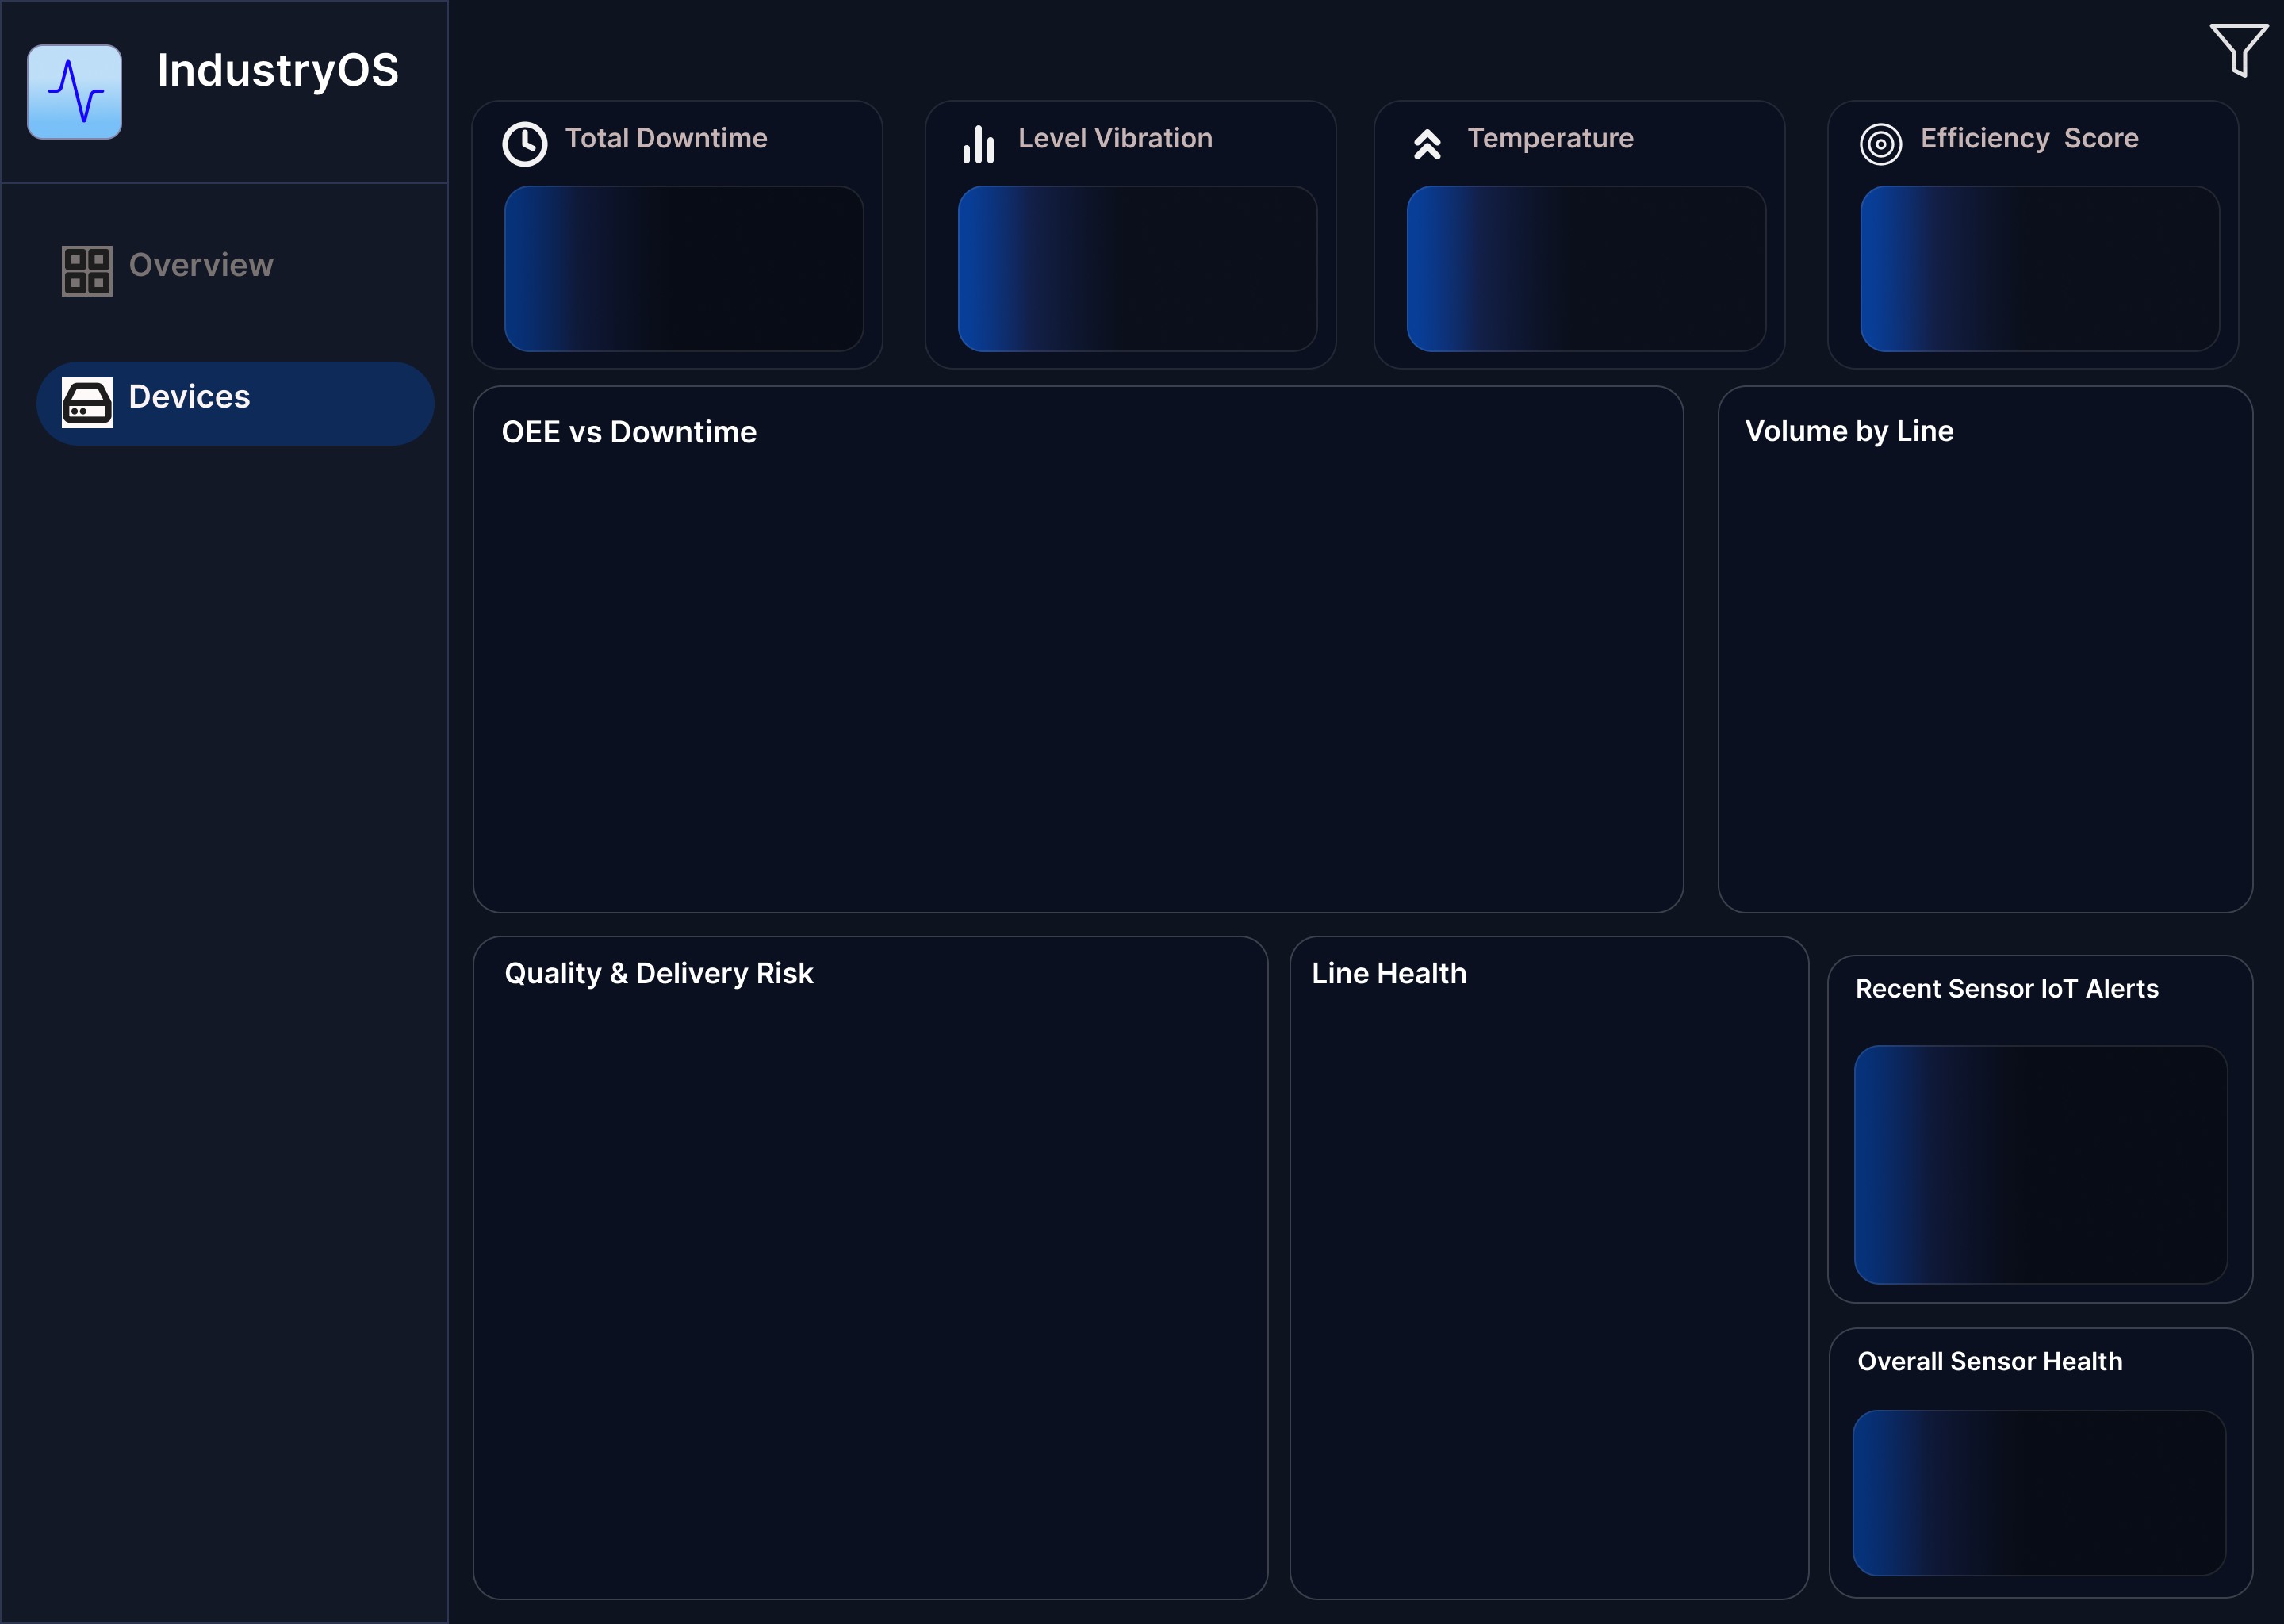

This screenshot's page, from the dashboard's own definition file:
{"tool":"powerbi","page":{"name":"Devices Overview","canvas":[1920,1080],"ordinal":2},"visuals":[{"type":"cardVisual","fields":{"Data":["MIARY.Avg_Vibration"]},"box":[810,127.5,297.5,102.5],"z":0},{"type":"cardVisual","fields":{"Data":["MIARY.Avg_OEE"]},"box":[1570,132.5,242.5,92.5],"z":1000},{"type":"cardVisual","fields":{"Data":["MIARY.Avg_Sensor_Health"]},"box":[1570,927.5,282.5,105],"z":2000},{"type":"areaChart","fields":{"Category":["Dim_Production_Lines.production_line"],"Y":["MIARY.Avg_OEE"],"Y2":["MIARY.Total_Downtime_Hours"]},"box":[358,256,1090,352],"z":3000},{"type":"clusteredBarChart","fields":{"Category":["Dim_Production_Lines.production_line"],"Y":["MIARY.Avg_RUL"]},"box":[1088,660,434,392],"z":4000},{"type":"scatterChart","fields":{"Series":["Dim_Production_Lines.production_line"],"Size":["Sum(Fact_IndustryRisk.machine_downtime_min)"],"X":["Sum(Fact_IndustryRisk.defect_rate_pct)"],"Y":["Sum(Fact_IndustryRisk.delivery_delay_hours)"]},"box":[412,662,638,408],"z":5000},{"type":"donutChart","fields":{"Category":["Fact_IndustryRisk.production_line"],"Y":["Sum(Fact_IndustryRisk.production_output)"]},"box":[1380,237.5,522.5,405],"z":6000},{"type":"actionButton","box":[1852,0,68,60],"z":7000},{"type":"cardVisual","fields":{"Data":["MIARY.Sensor_Alert_Message"]},"box":[1557.5,687.5,295,182.5],"z":8000},{"type":"cardVisual","fields":{"Data":["MIARY.Total_Downtime_Hours"]},"box":[440,112.5,307.5,125],"z":9000},{"type":"cardVisual","fields":{"Data":["MIARY.Avg_Temp"]},"box":[1192.5,125,237.5,105],"z":11000},{"type":"actionButton","box":[32.5,137.5,242.5,92.5],"z":16001}]}

Visuals, with their boxes on the page's 1920x1080 design canvas (x1, y1, x2, y2). These are canvas units, not pixel positions in the 2284x1624 screenshot, which may show the page scaled, cropped or inside an application window:
cardVisual - MIARY.Avg_Vibration: box=[810, 128, 1108, 230]
cardVisual - MIARY.Avg_OEE: box=[1570, 132, 1812, 225]
cardVisual - MIARY.Avg_Sensor_Health: box=[1570, 928, 1852, 1032]
areaChart - Dim_Production_Lines.production_line x MIARY.Avg_OEE: box=[358, 256, 1448, 608]
clusteredBarChart - Dim_Production_Lines.production_line x MIARY.Avg_RUL: box=[1088, 660, 1522, 1052]
scatterChart - Dim_Production_Lines.production_line x Sum(Fact_IndustryRisk.machine_downtime_min): box=[412, 662, 1050, 1070]
donutChart - Fact_IndustryRisk.production_line x Sum(Fact_IndustryRisk.production_output): box=[1380, 238, 1902, 642]
actionButton: box=[1852, 0, 1920, 60]
cardVisual - MIARY.Sensor_Alert_Message: box=[1558, 688, 1852, 870]
cardVisual - MIARY.Total_Downtime_Hours: box=[440, 112, 748, 238]
cardVisual - MIARY.Avg_Temp: box=[1192, 125, 1430, 230]
actionButton: box=[32, 138, 275, 230]
